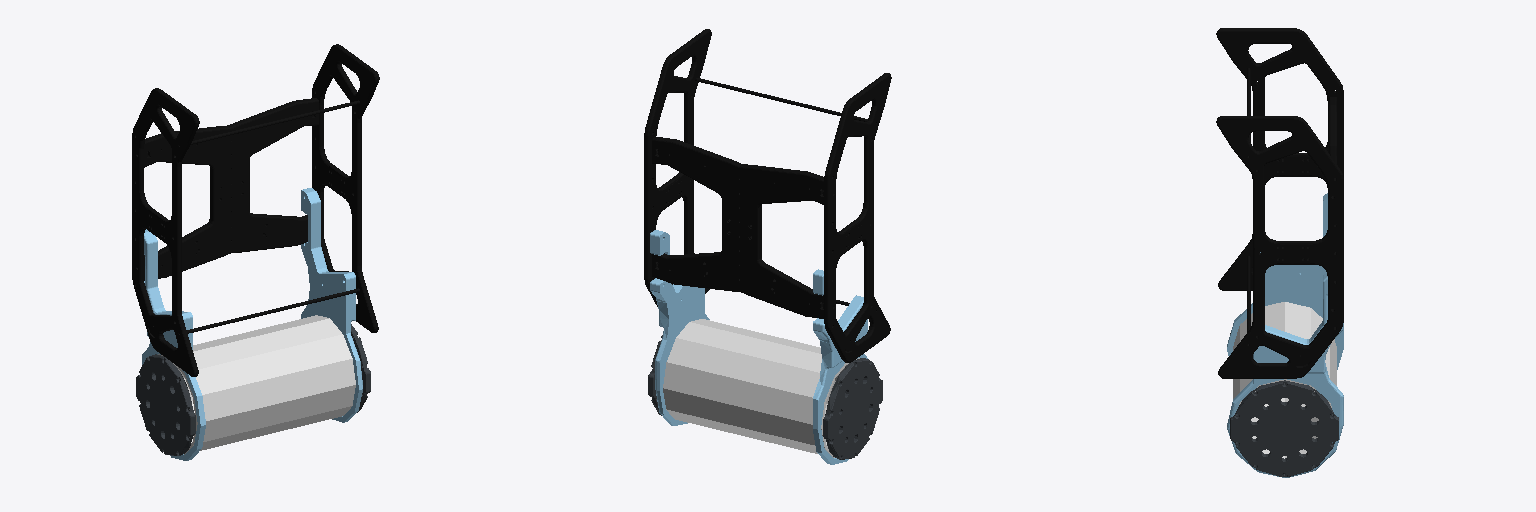
The model's file is payload.obj.
3 views of the same model, side by side, from view 1: azimuth 30°, elevation 25°; view 2: azimuth 150°, elevation 25°; view 3: azimuth 270°, elevation 25° (orthographic).
Parts seen in each view (by area): view 1: mesh75, mesh551, mesh563, mesh288, mesh66, mesh558, mesh594, mesh708; view 2: mesh75, mesh392, mesh563, mesh288, mesh66, mesh597, mesh382, mesh558, mesh732; view 3: mesh728, mesh288, mesh380, mesh75, mesh63, mesh1.
Boxes of the visible parts, x1,y1,x2,y2 form: mesh75: [193, 315, 355, 450]; mesh551: [144, 102, 318, 279]; mesh563: [133, 47, 373, 375]; mesh288: [136, 357, 189, 455]; mesh66: [301, 190, 358, 422]; mesh558: [187, 100, 359, 333]; mesh594: [176, 123, 358, 309]; mesh708: [179, 123, 360, 309]; mesh75: [663, 319, 833, 457]; mesh392: [652, 141, 823, 317]; mesh563: [650, 32, 890, 360]; mesh288: [829, 360, 882, 458]; mesh66: [660, 232, 709, 425]; mesh597: [647, 136, 829, 322]; mesh382: [818, 354, 867, 464]; mesh558: [695, 78, 867, 305]; mesh732: [645, 136, 826, 322]; mesh728: [1218, 32, 1341, 377]; mesh288: [1231, 384, 1338, 476]; mesh380: [1227, 198, 1343, 369]; mesh75: [1233, 302, 1336, 406]; mesh63: [1233, 374, 1339, 469]; mesh1: [1254, 280, 1341, 371].
Bounding box in the file's own units: 0.3381 × 0.6406 × 0.2013.